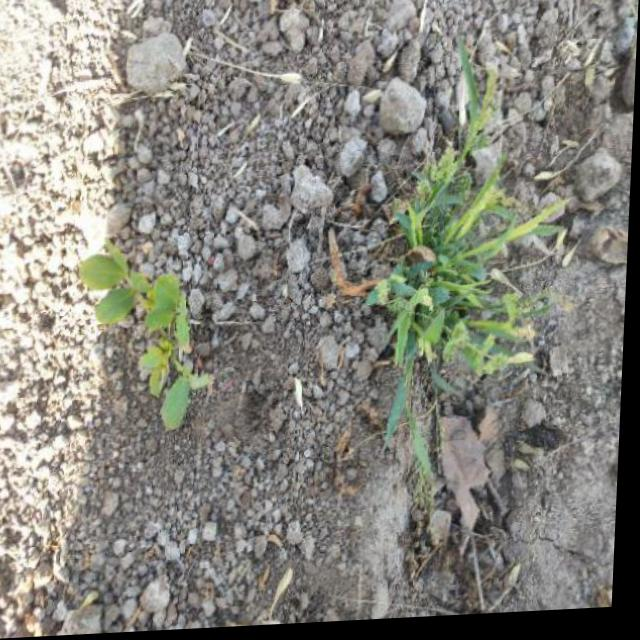weed: (343, 71, 565, 399), (77, 246, 234, 460)
